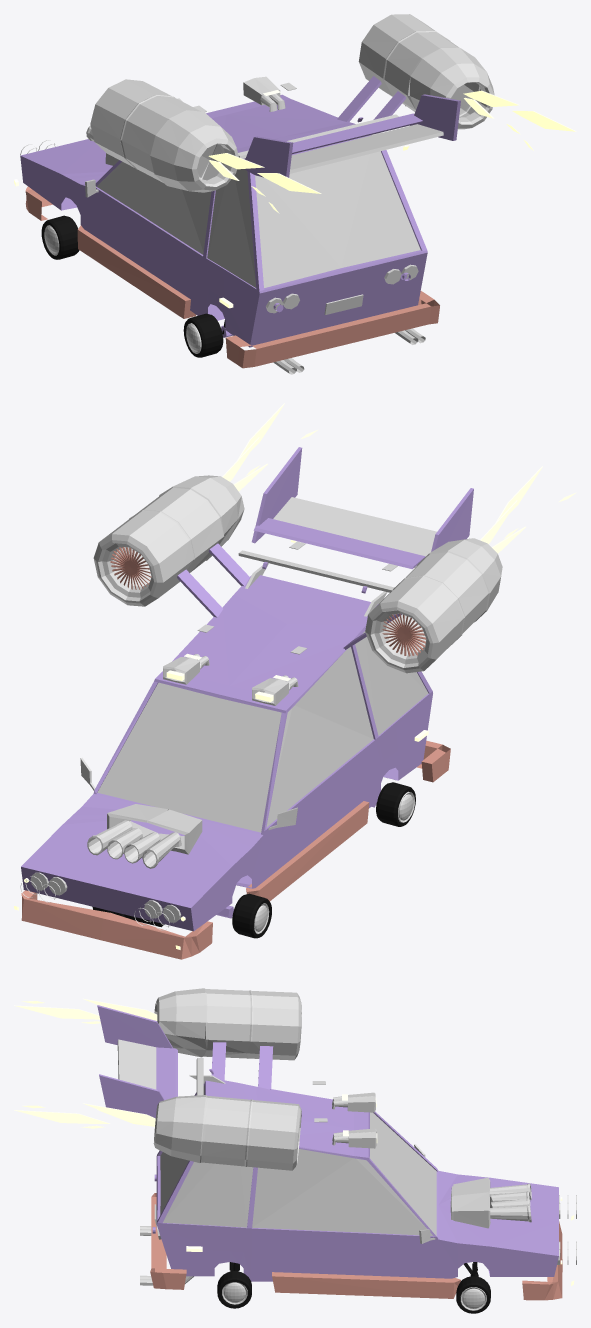
File: CarNew.fbx
The picture shows the model from 3 angles, top to bottom: view 1: azimuth 30°, elevation 25°; view 2: azimuth 150°, elevation 25°; view 3: azimuth 270°, elevation 25°; orthographic projection. The views are drawn at different scales.
Parts seen in each view (by area): view 1: Chassie, Blaster, Windshiled, Rim, Yellow, Tire, Blue Glow; view 2: Chassie, Blaster, Windshiled, Rim, Yellow, Tire, Blue Glow; view 3: Chassie, Blaster, Windshiled, Rim, Yellow, Tire.
Part boxes in pixels (x1,y1,x2,y2): Chassie: (20, 76, 460, 347); Blaster: (44, 14, 494, 374); Windshiled: (96, 151, 420, 287); Rim: (25, 186, 439, 368); Yellow: (14, 90, 576, 308); Tire: (41, 215, 225, 357); Blue Glow: (20, 140, 418, 313); Chassie: (21, 447, 473, 931); Blaster: (80, 475, 502, 933); Windshiled: (97, 631, 428, 832); Rim: (21, 547, 450, 959); Yellow: (14, 403, 576, 949); Tire: (92, 782, 415, 938); Blue Glow: (20, 872, 181, 930); Chassie: (97, 1005, 558, 1281); Blaster: (117, 988, 531, 1310); Windshiled: (160, 1085, 436, 1235); Rim: (150, 1193, 562, 1300); Yellow: (14, 998, 574, 1285); Tire: (217, 1262, 490, 1313).
Bounding box in the file's own units: 41345 × 31939 × 70242.
